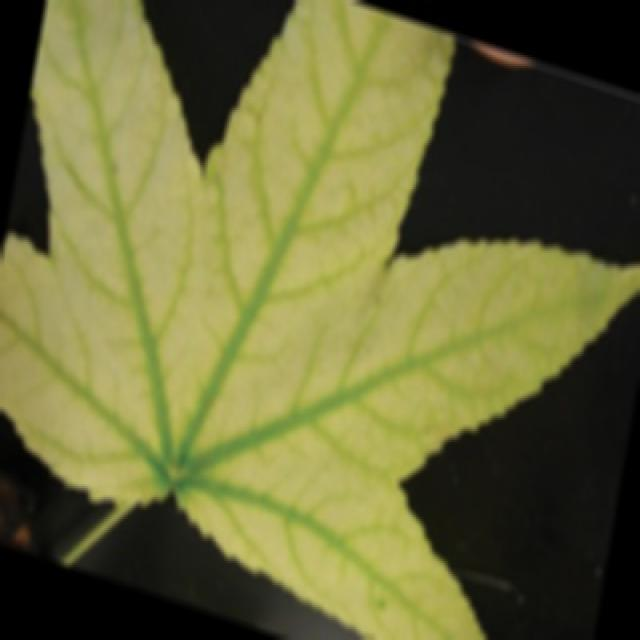Chlorosis: (10, 4, 548, 624)
